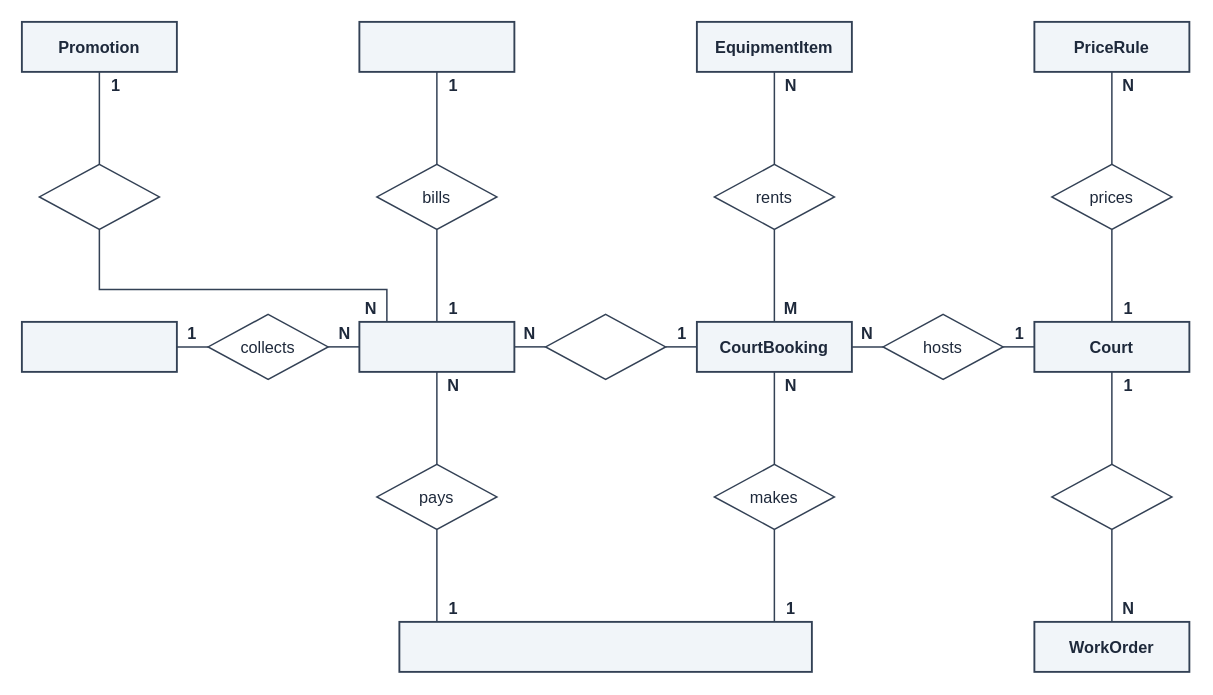
This 1213x695 diagram has some shape labels left out. The centre of each missing label's shape, as x and y in pixels:
"CashierShift" belongs at point 98,346.
"discounts" belongs at point 99,196.
"Invoice" belongs at point 436,46.
"needs" belongs at point 1111,496.
"Payment" belongs at point 436,346.
"settles" belongs at point 605,346.
"User" belongs at point 605,646.
